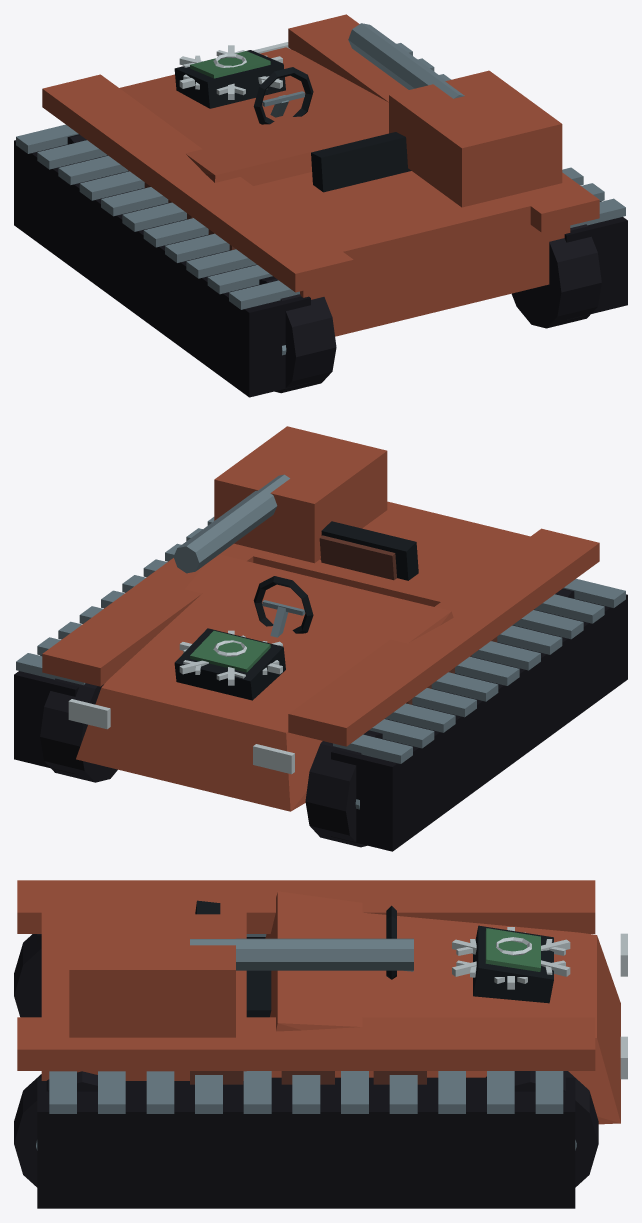
The model's file is kart.glb.
3 renders of one model, top to bottom at view 1: azimuth 30°, elevation 25°; view 2: azimuth 150°, elevation 25°; view 3: azimuth 270°, elevation 25°, orthographic. The views are drawn at different scales.
Visible parts, largest first — view 1: identity-tank-tank-armored-hull, identity-tank-tank-full-length-tracks, identity-tank-driver-cockpit, wheel-rear-right, wheel-rear-left, identity-tank-motif-scanner, identity-tank-motif-snow; view 2: identity-tank-tank-armored-hull, identity-tank-tank-full-length-tracks, identity-tank-driver-cockpit, identity-tank-motif-scanner, wheel-front-left, wheel-front-right, identity-tank-motif-snow; view 3: identity-tank-tank-armored-hull, identity-tank-tank-full-length-tracks, identity-tank-motif-scanner, wheel-front-right, wheel-rear-right, identity-tank-driver-cockpit, wheel-rear-left, identity-tank-motif-snow.
Part boxes in pixels (x1,y1,x2,y2): identity-tank-tank-armored-hull: (42,14,599,336); identity-tank-tank-full-length-tracks: (14,43,627,397); identity-tank-driver-cockpit: (253,67,411,192); wheel-rear-right: (511,224,601,328); wheel-rear-left: (259,276,336,393); identity-tank-motif-scanner: (174,50,285,108); identity-tank-motif-snow: (179,45,282,99); identity-tank-tank-armored-hull: (42,426,599,811); identity-tank-tank-full-length-tracks: (14,517,627,851); identity-tank-driver-cockpit: (253,521,418,637); identity-tank-motif-scanner: (174,628,285,700); wheel-front-left: (305,730,382,847); wheel-front-right: (40,678,117,782); identity-tank-motif-snow: (179,630,282,685); identity-tank-tank-armored-hull: (17,880,627,1124); identity-tank-tank-full-length-tracks: (37,934,575,1208); identity-tank-motif-scanner: (473,925,553,1003); wheel-front-right: (486,1071,598,1187); wheel-rear-right: (14,1071,97,1187); identity-tank-driver-cockpit: (195,900,413,1017); wheel-rear-left: (14,934,41,1017); identity-tank-motif-snow: (452,927,570,989).
Bounding box in the file's own units: 2.38 × 1.19 × 2.88.
